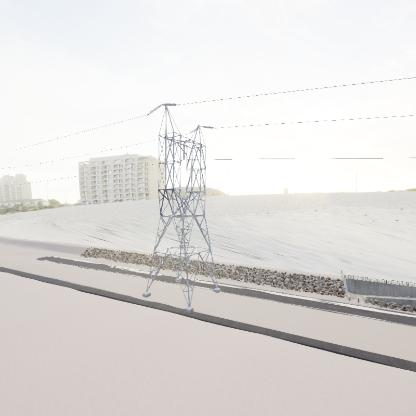tower: (141, 98, 224, 322)
